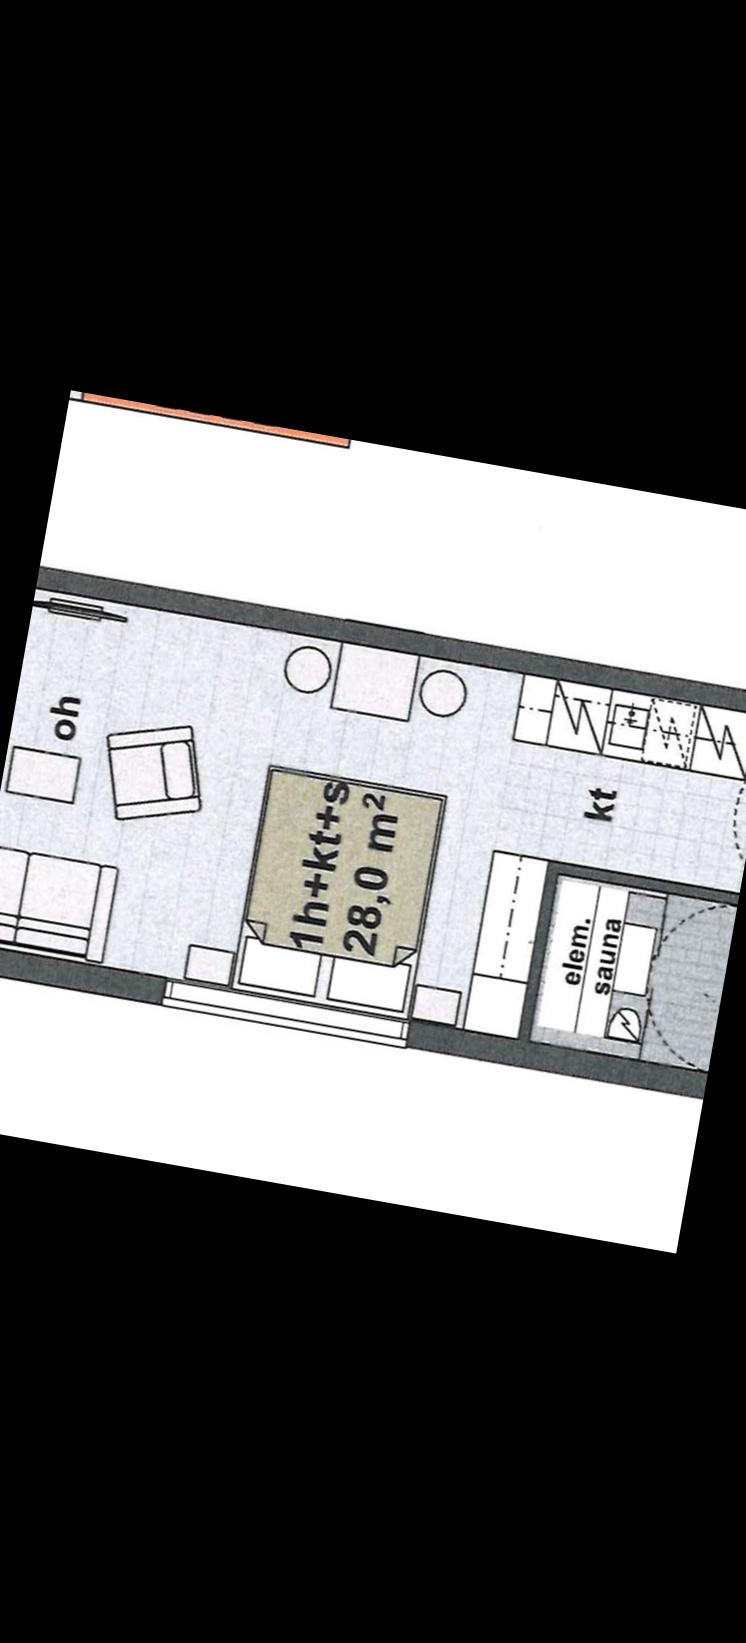window: (141, 968, 425, 1057)
